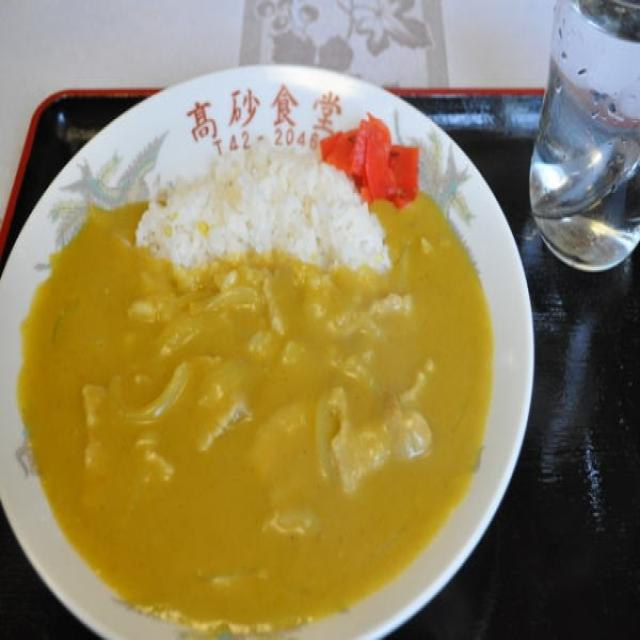Wet: (17, 126, 496, 629)
